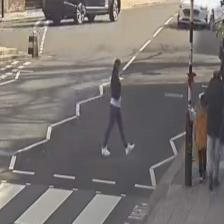person: (101, 58, 135, 156), (206, 68, 224, 189), (192, 93, 209, 182)
